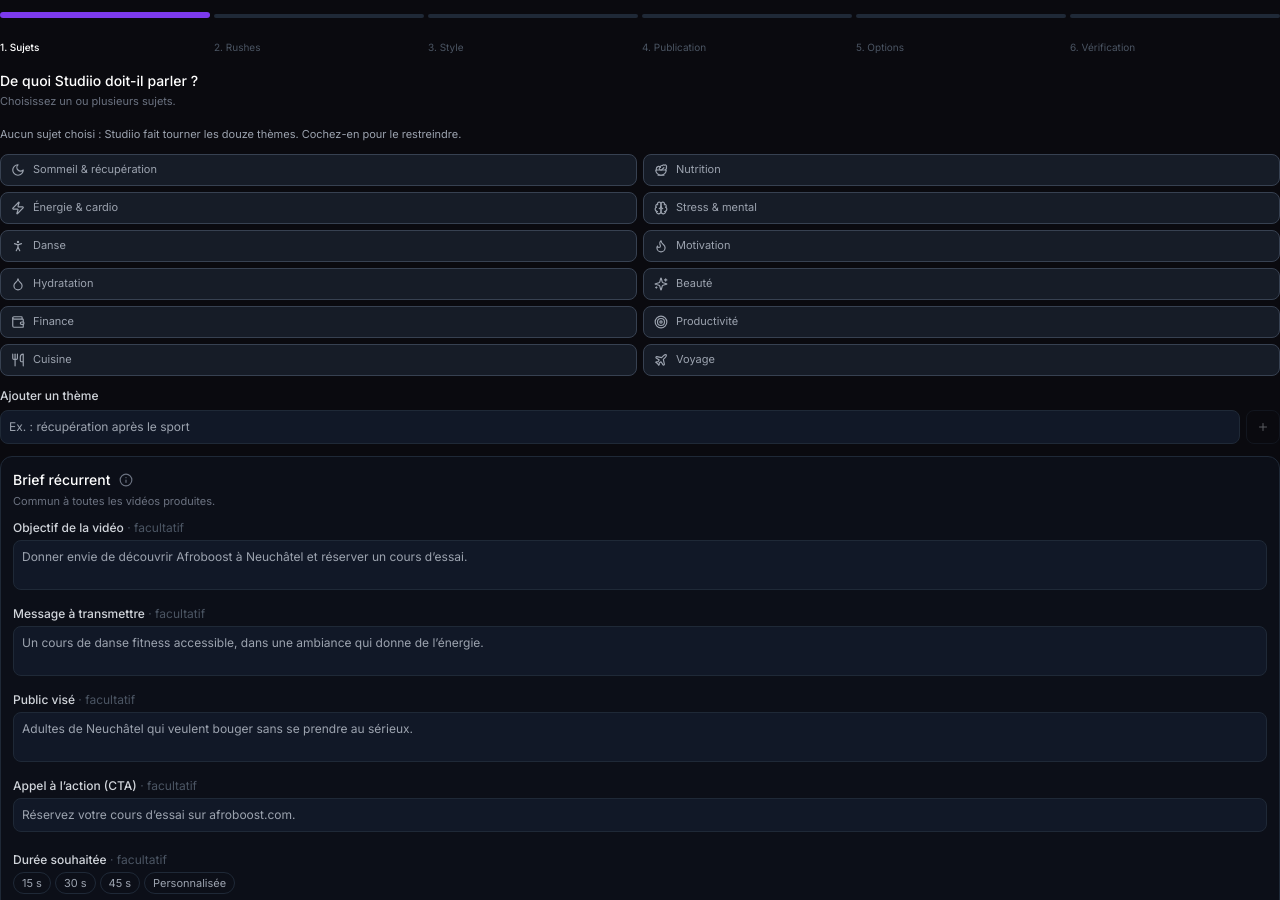
C — les textes qui disent ce que l écoute ne peut pas faire › rien à écouter (ni musique, ni son du rush gardé) : l invitation, pas de lecteur
The width and height of the screenshot is (1280, 900).
Click the button named "Style": {"x": 533, "y": 16} top-left (428, 14), bottom-right (638, 18)
(page scrolled)
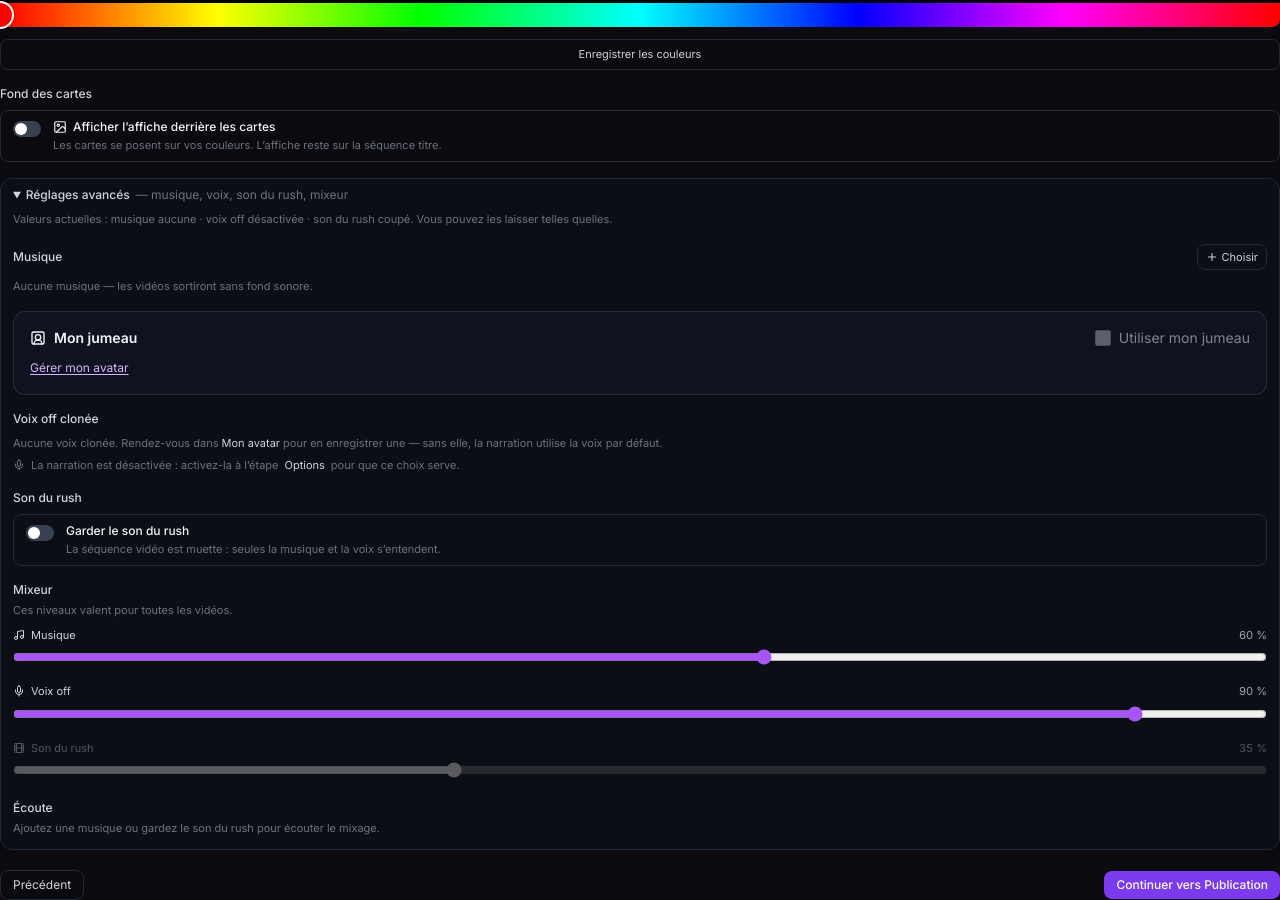
Check: the slider labelled "Musique" holds "60", box top-left (13, 649), bottom-right (1267, 665)
Check: the text "Ajoutez une musique ou gardez le son du rush" is shown, box top-left (13, 821), bottom-right (380, 835)
